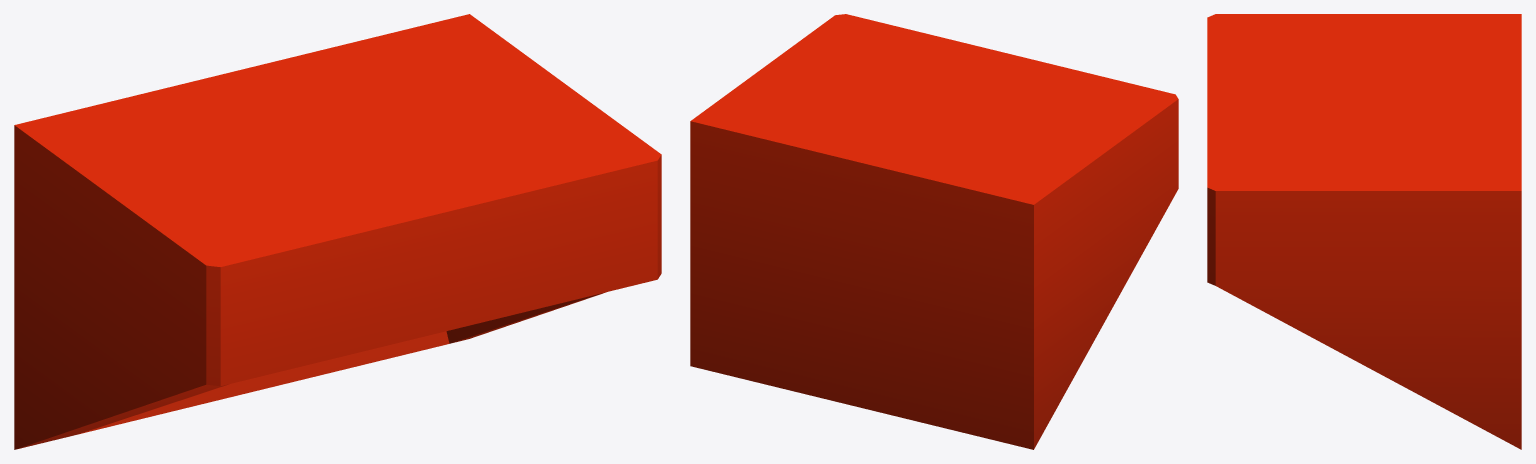
The model's file is Kitchen_Exhaust_01_C04.fbx.
3 renders of one model, left to right at view 1: azimuth 30°, elevation 25°; view 2: azimuth 150°, elevation 25°; view 3: azimuth 270°, elevation 25°, orthographic. The views are drawn at different scales.
Visible parts, largest first — view 1: Kitchen_Exhaust_01_C04; view 2: Kitchen_Exhaust_01_C04; view 3: Kitchen_Exhaust_01_C04.
Part boxes in pixels (left/top/right/bottom): Kitchen_Exhaust_01_C04: left=14, top=14, right=661, bottom=449; Kitchen_Exhaust_01_C04: left=690, top=14, right=1178, bottom=449; Kitchen_Exhaust_01_C04: left=1207, top=14, right=1521, bottom=449.
Size of the model in its own units: 100 by 68.18 by 75.
